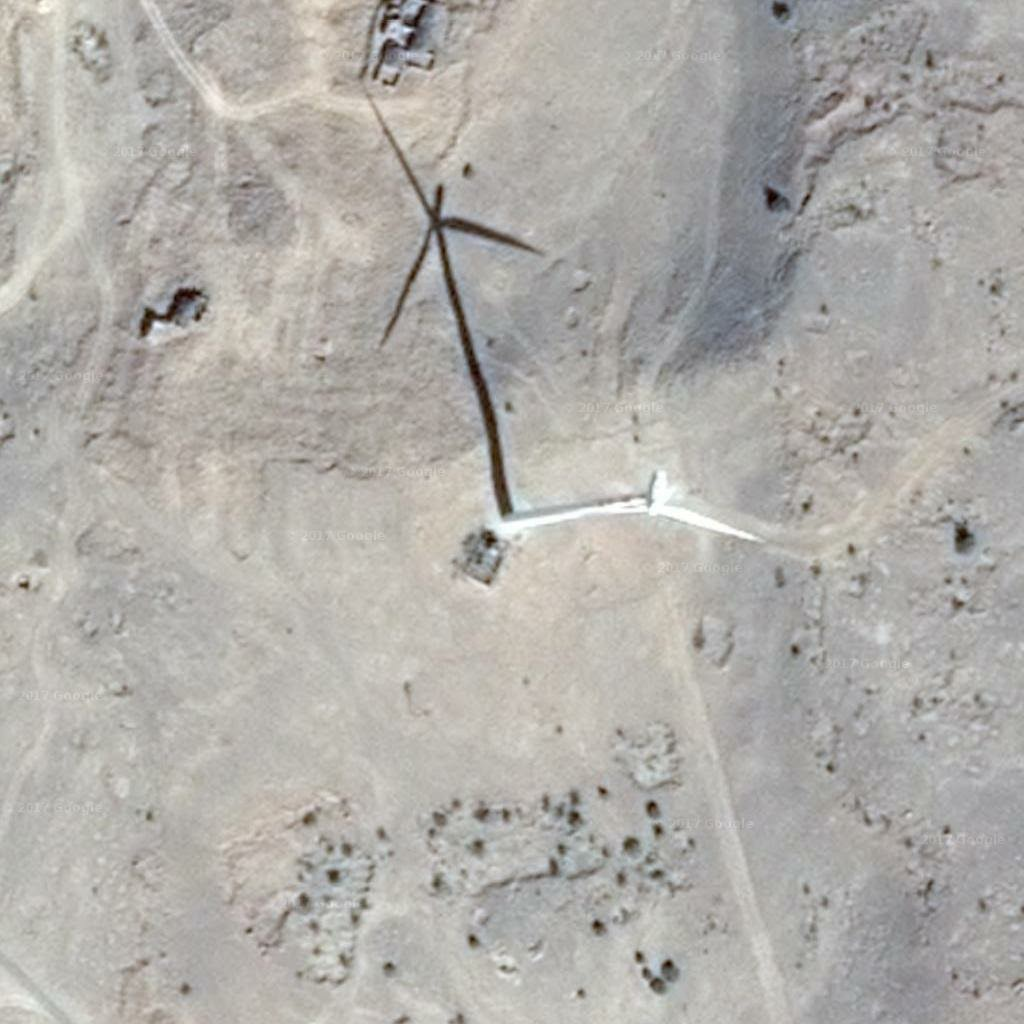Windmill: (359, 87, 528, 509)
